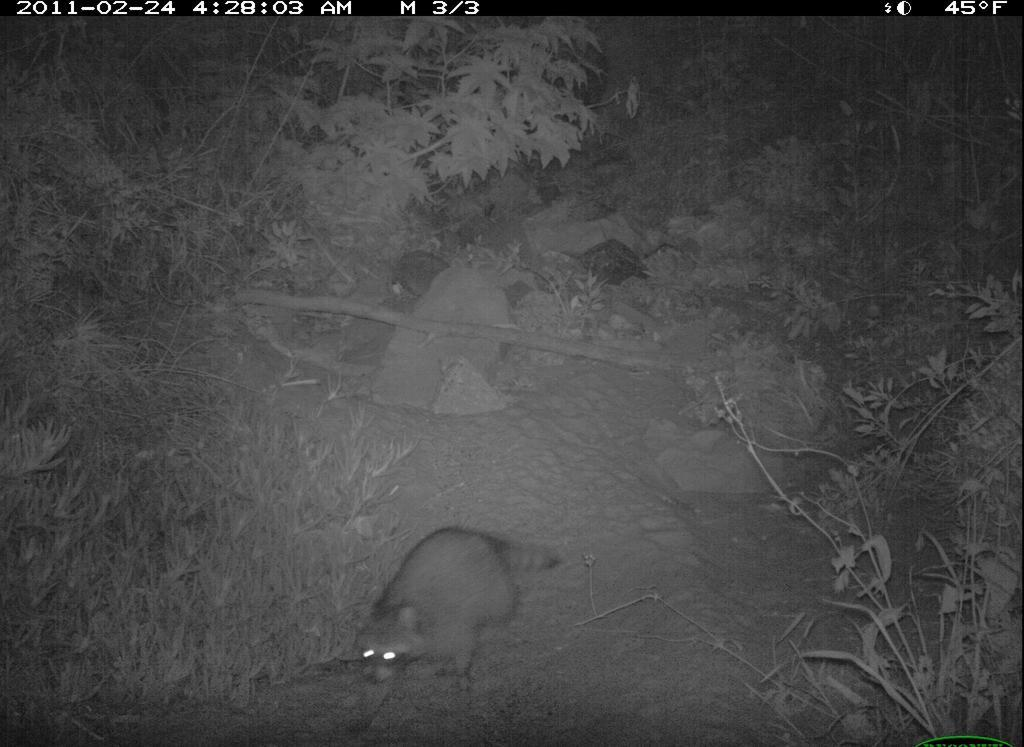raccoon: (342, 511, 566, 703)
